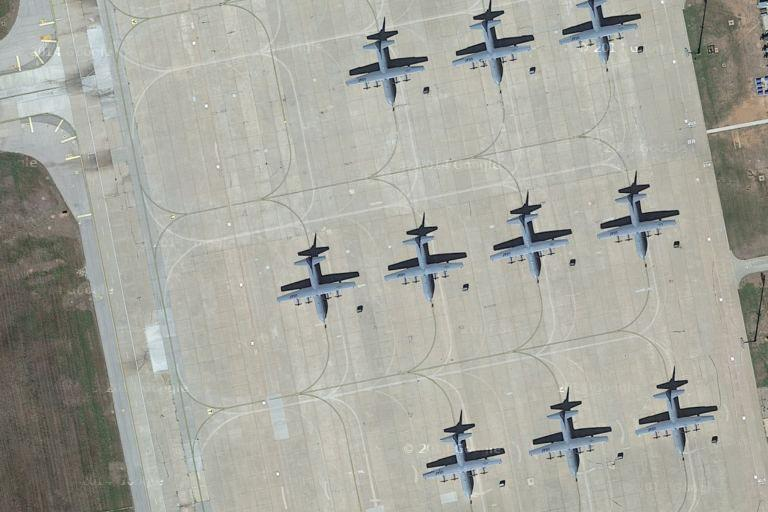C-130: (273, 250, 361, 322), (527, 407, 612, 478), (345, 35, 426, 109), (449, 15, 533, 85), (421, 429, 504, 499), (383, 232, 467, 301), (487, 211, 572, 279), (633, 388, 715, 457), (594, 190, 677, 258), (558, 1, 638, 61)
